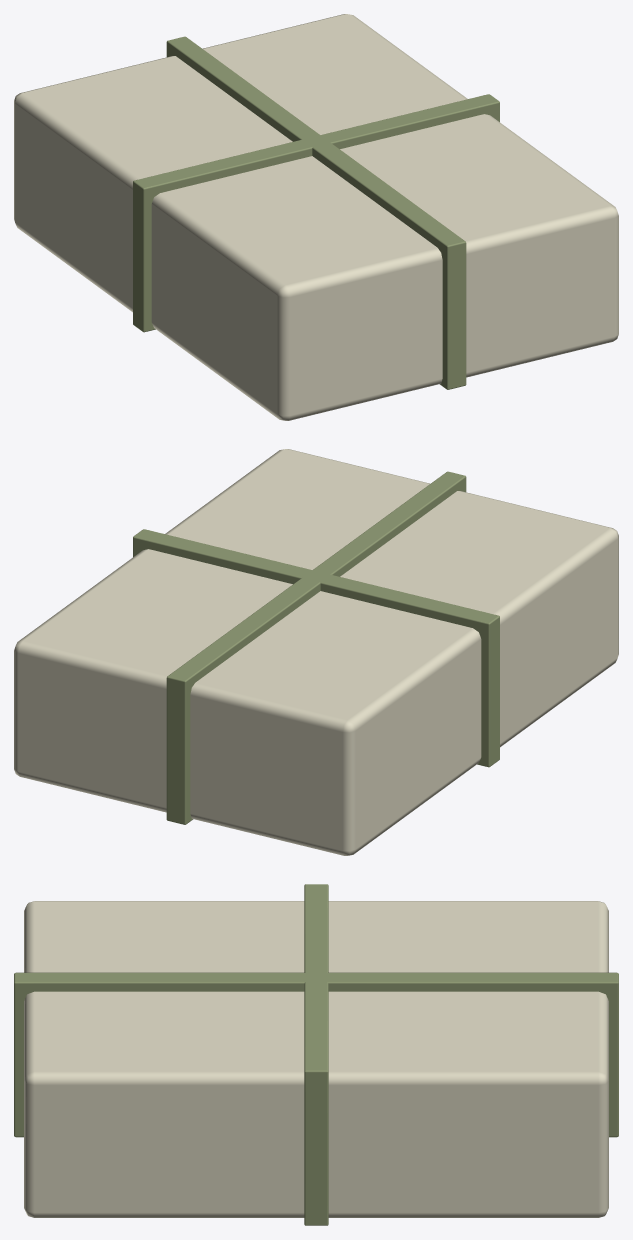
Rendered from scavengers-loot-library-paper-bundle-89714d5a__2665.glb.
3 renders of one model, top to bottom at view 1: azimuth 30°, elevation 25°; view 2: azimuth 150°, elevation 25°; view 3: azimuth 270°, elevation 25°, orthographic. The views are drawn at different scales.
Parts seen in each view (by area): view 1: paper-bundle; view 2: paper-bundle; view 3: paper-bundle.
Part boxes in pixels (x1,y1,x2,y2): paper-bundle: [14, 14, 618, 420]; paper-bundle: [14, 449, 618, 855]; paper-bundle: [14, 884, 618, 1225].
Size of the model in its own units: 0.22 by 0.085 by 0.3.
